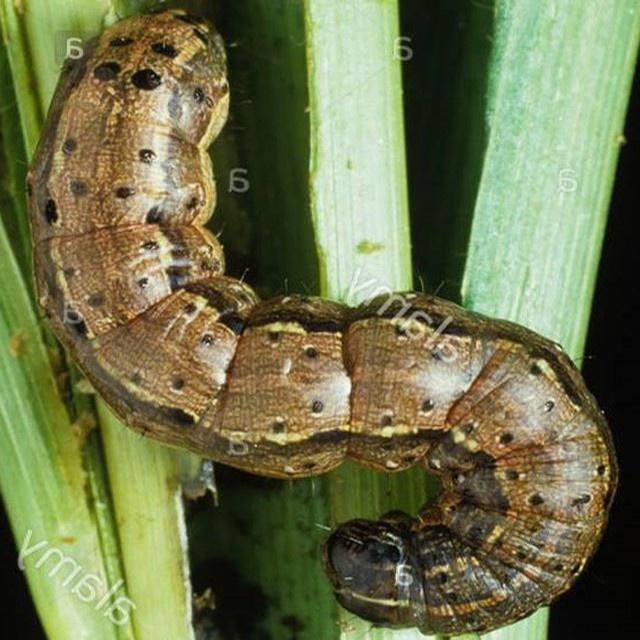worm: (23, 6, 620, 639)
